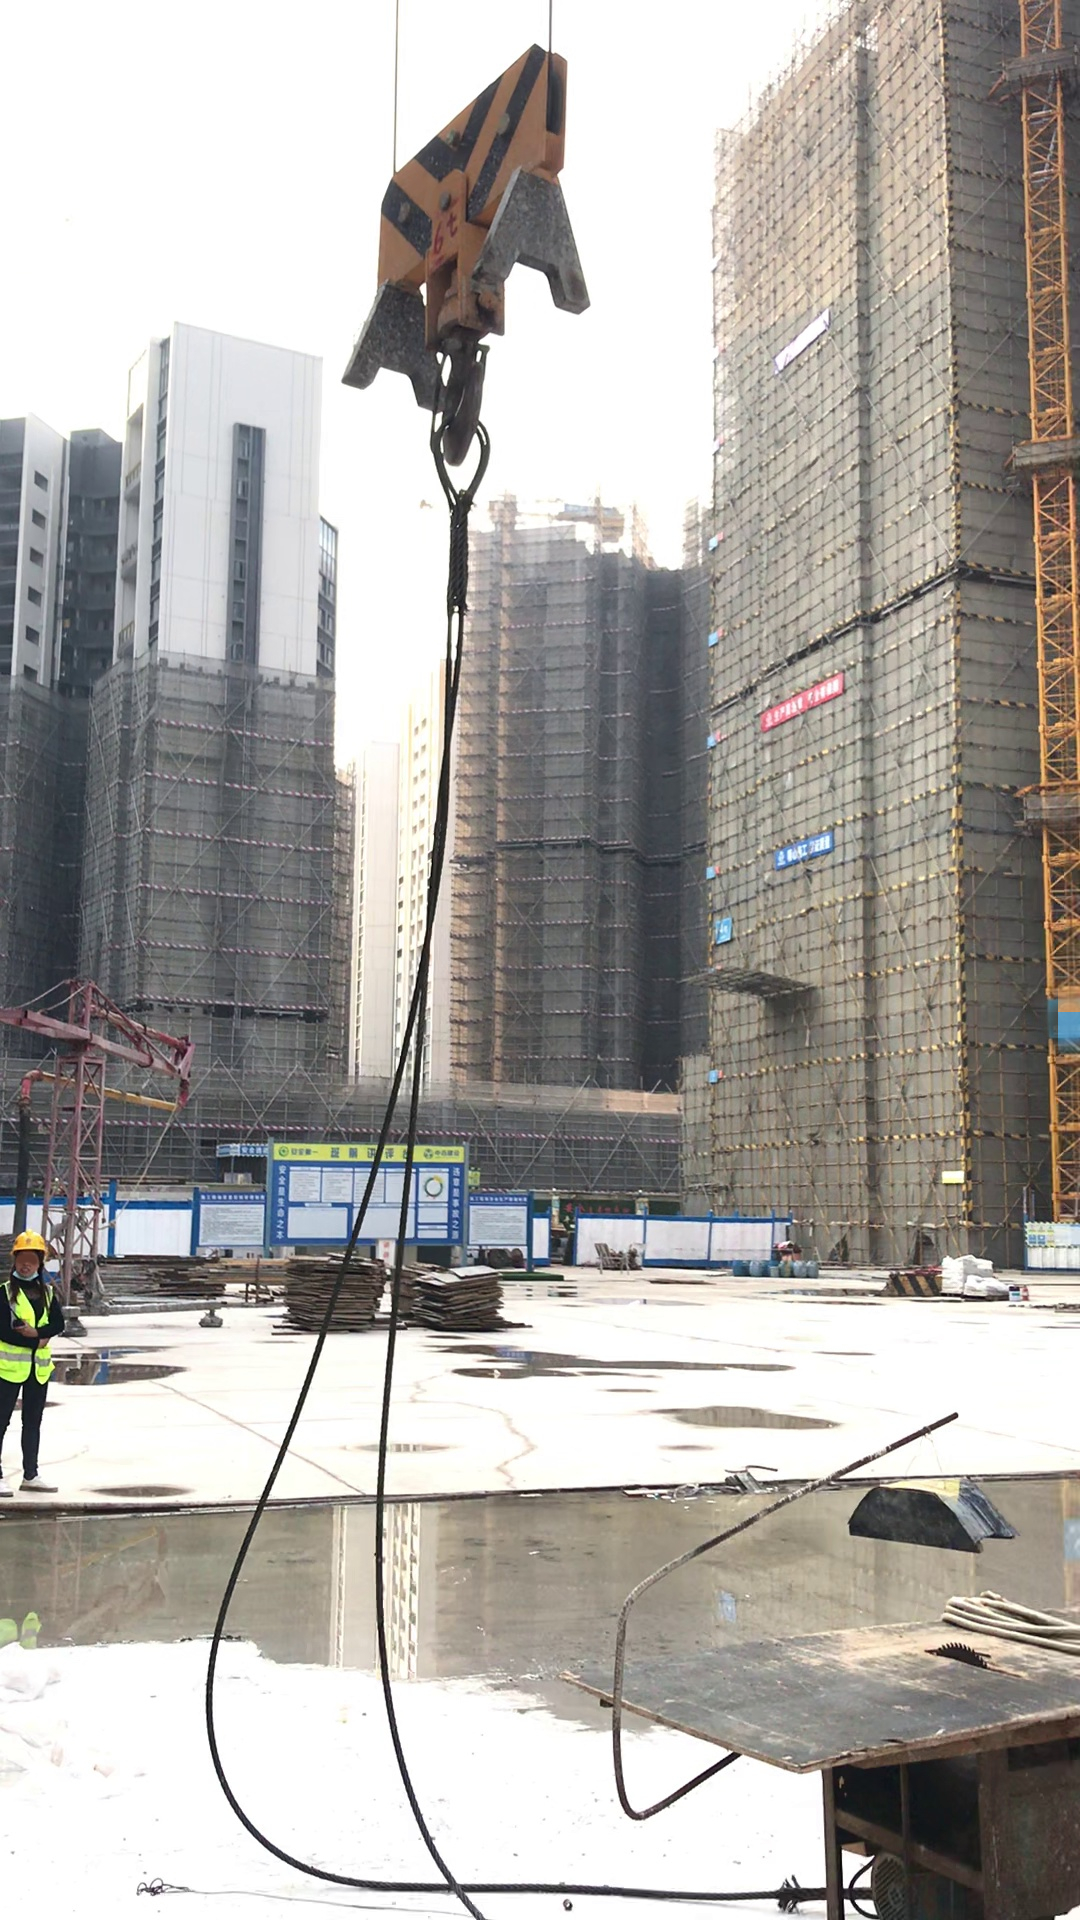board: (283, 1252, 390, 1332), (412, 1262, 518, 1331)
cutter: (576, 1553, 1080, 1920)
helmet: (8, 1231, 57, 1256)
hook: (345, 70, 611, 486)
person: (1, 1233, 118, 1485)
slogan: (764, 668, 848, 731), (770, 829, 838, 876), (269, 1160, 289, 1244), (446, 1163, 465, 1243)
vest: (4, 1281, 54, 1382)
